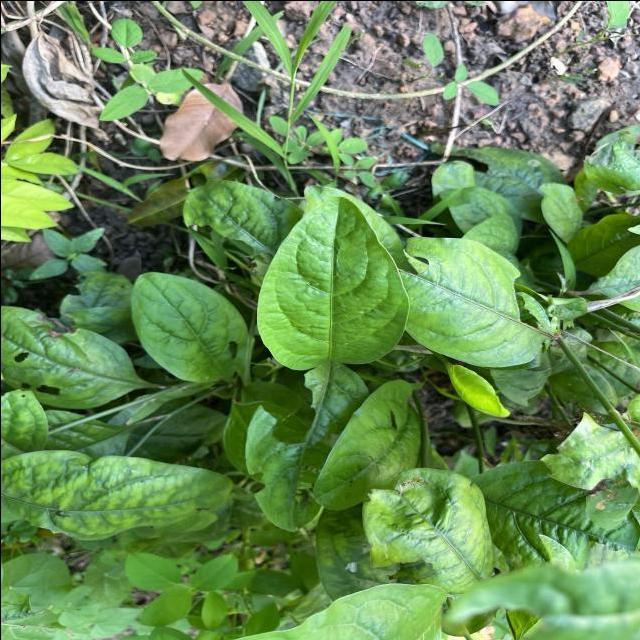Plumbago indica: (252, 187, 411, 373), (0, 446, 240, 546), (123, 269, 254, 389)
